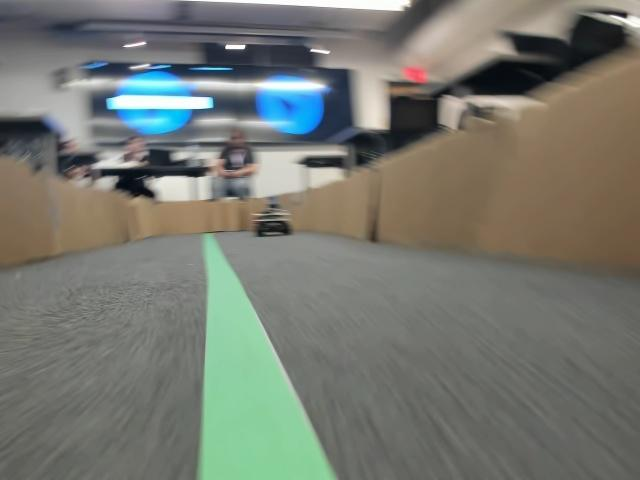Car: (252, 203, 292, 234)
